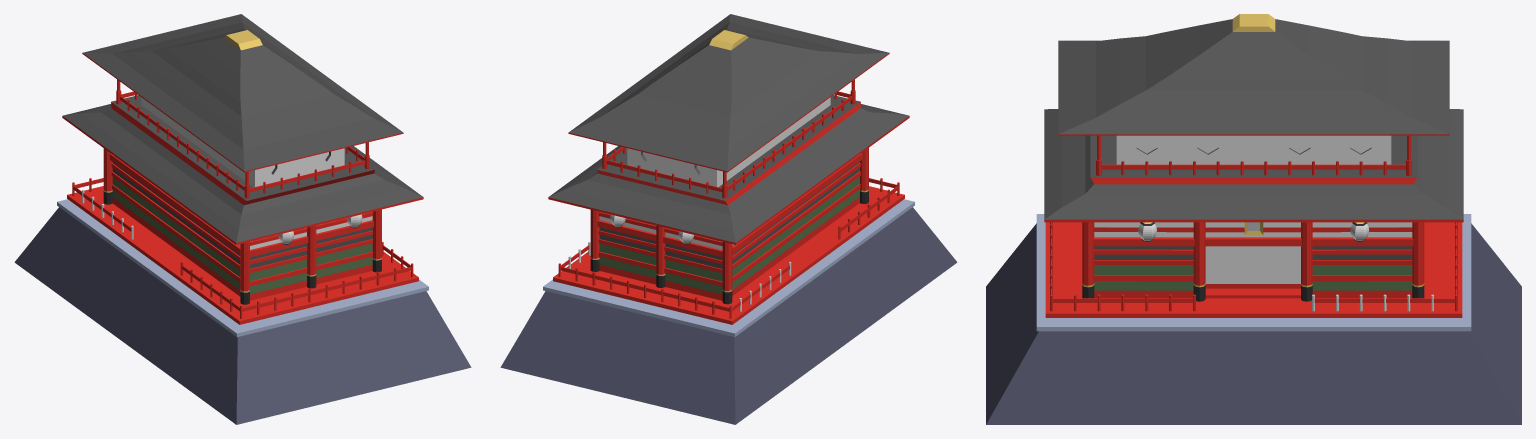
The model's file is House.fbx.
The picture shows the model from 3 angles, left to right: view 1: azimuth 30°, elevation 25°; view 2: azimuth 150°, elevation 25°; view 3: azimuth 270°, elevation 25°; orthographic projection. The views are drawn at different scales.
Visible parts, largest first — view 1: Plane.004, Plane.001, Plane.003, Plane.002, Cylinder.008, Cube.007, Cube.005, Cube.004, Cube.006, Cylinder.004, Cylinder.003; view 2: Plane.004, Plane.001, Plane.003, Plane.002, Cylinder.008, Cube.007, Cube.005, Cube.004, Cube.006, Cylinder.004, Cylinder.003; view 3: Plane.004, Plane.001, Plane.003, Plane.002, Cylinder.008, Cube.004, Cube.005, Cylinder.003.
Part boxes in pixels (<box>): Plane.004: <box>62,14,423,300</box>; Plane.001: <box>14,207,471,424</box>; Plane.003: <box>67,186,418,324</box>; Plane.002: <box>57,199,428,336</box>; Cylinder.008: <box>103,148,381,304</box>; Cube.007: <box>74,178,411,311</box>; Cube.005: <box>73,186,410,311</box>; Cube.004: <box>120,96,364,190</box>; Cube.006: <box>121,91,365,192</box>; Cylinder.004: <box>72,178,413,318</box>; Cylinder.003: <box>127,99,358,190</box>; Plane.004: <box>548,14,909,300</box>; Plane.001: <box>500,207,957,424</box>; Plane.003: <box>553,186,904,324</box>; Plane.002: <box>543,199,914,336</box>; Cylinder.008: <box>590,148,868,304</box>; Cube.007: <box>560,178,897,311</box>; Cube.005: <box>561,186,898,311</box>; Cube.004: <box>607,96,851,190</box>; Cube.006: <box>606,91,850,191</box>; Cylinder.004: <box>558,178,899,318</box>; Cylinder.003: <box>613,99,844,190</box>; Plane.004: <box>1044,14,1463,298</box>; Plane.001: <box>986,223,1521,424</box>; Plane.003: <box>1045,222,1462,317</box>; Plane.002: <box>1036,214,1471,331</box>; Cylinder.008: <box>1082,222,1424,301</box>; Cube.004: <box>1102,164,1405,169</box>; Cube.005: <box>1052,298,1455,302</box>; Cylinder.003: <box>1121,161,1386,175</box>.
Size of the model in its own units: 550 by 622 by 900.
